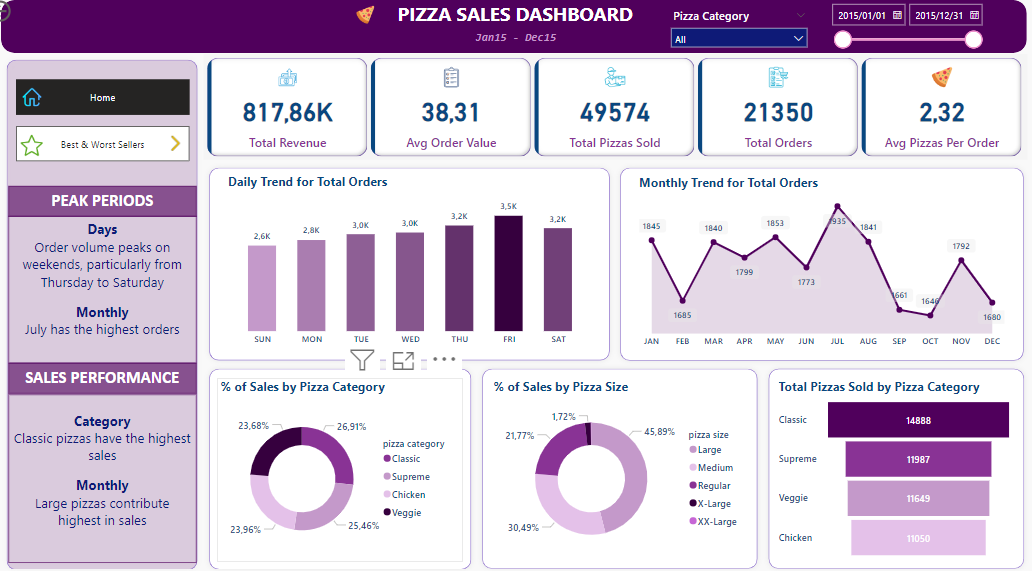

Layout of this report page (visuals, bound fields, positions):
{"tool":"powerbi","page":{"name":"Home","canvas":[1500,825],"ordinal":0},"visuals":[{"type":"shape","box":[21.7,80,286.7,740],"z":0},{"type":"cardVisual","fields":{"Data":["pizza_sales.Total Revenue","pizza_sales.Avg Order Value","pizza_sales.Total Pizzas Sold","pizza_sales.Total Orders","pizza_sales.Avg Pizzas Per Order"]},"box":[308.3,80,1168.3,150],"z":1000},{"type":"shape","box":[21.7,5,1455,75],"z":2000},{"type":"textbox","box":[680.8,43.3,141.5,36.6],"z":3000},{"type":"image","box":[513.3,6.7,50,36.7],"z":4000},{"type":"textbox","box":[563.3,0,373.3,50],"z":5000},{"type":"shape","box":[307.9,233,584.2,289.6],"z":6000},{"type":"columnChart","title":"Daily Trend for Total Orders","fields":{"Category":["pizza_sales.Order day"],"Y":["pizza_sales.Total Orders"]},"box":[337.9,249.7,527.6,254.7],"z":7000},{"type":"shape","box":[891.7,233.3,588.3,290],"z":8000},{"type":"areaChart","title":"Monthly Trend for Total Orders","fields":{"Category":["pizza_sales.Order Month"],"Y":["pizza_sales.Total Orders"]},"box":[921.7,250,528.3,255],"z":9000},{"type":"shape","box":[307.9,519.3,387.8,301.3],"z":10000},{"type":"shape","box":[695,520,406.7,300],"z":11000},{"type":"shape","box":[1101.7,520,378.3,300],"z":12000},{"type":"donutChart","title":"% of Sales by Pizza Category","fields":{"Category":["pizza_sales.pizza_category"],"Y":["pizza_sales.Total Revenue"]},"box":[326.7,540,350,261.7],"z":13000},{"type":"donutChart","title":"% of Sales by Pizza Size","fields":{"Y":["pizza_sales.Total Revenue"],"Category":["pizza_sales.pizza_size"]},"box":[715,540,366.7,261.7],"z":14000},{"type":"funnel","title":"Total Pizzas Sold by Pizza Category","fields":{"Category":["pizza_sales.pizza_category"],"Y":["pizza_sales.Total Pizzas Sold"]},"box":[1120,540,341.7,261.7],"z":15000},{"type":"textbox","box":[31.7,268.3,266.7,43.3],"z":16000},{"type":"textbox","box":[31.7,311.7,266.7,208.3],"z":17000},{"type":"textbox","box":[31.7,520,266.7,43.3],"z":18000},{"type":"textbox","box":[31.7,563.3,266.7,238.3],"z":19000},{"type":"actionButton","box":[0,0,100,40],"z":20000},{"type":"slicer","fields":{"Values":["pizza_sales.pizza_category"]},"box":[961.7,11.7,213.3,68.3],"z":21000},{"type":"slicer","fields":{"Values":["pizza_sales.order_date"]},"box":[1186.7,0,235,80],"z":22000},{"type":"pageNavigator","box":[41.7,183.3,246.7,50],"z":23000},{"type":"pageNavigator","box":[41.7,116.7,246.7,50],"z":24000},{"type":"image","box":[248.3,191.7,40,31.7],"z":25000},{"type":"image","box":[41.7,123.3,45,36.7],"z":26000},{"type":"image","box":[41.7,188.3,45,41.7],"z":26001}]}

Visuals, with their boxes in screenshot pixels (x1, y1, x2, y2), scaled from the page's 1500x825 canvas onto the 1032x571 screenshot:
shape: <box>15,55,212,568</box>
cardVisual - pizza_sales.Total Revenue x pizza_sales.Avg Order Value: <box>212,55,1016,159</box>
shape: <box>15,3,1016,55</box>
textbox: <box>468,30,566,55</box>
image: <box>353,5,388,30</box>
textbox: <box>388,0,644,35</box>
shape: <box>212,161,614,362</box>
"Daily Trend for Total Orders" columnChart: <box>232,173,595,349</box>
shape: <box>613,161,1018,362</box>
"Monthly Trend for Total Orders" areaChart: <box>634,173,998,350</box>
shape: <box>212,359,479,568</box>
shape: <box>478,360,758,568</box>
shape: <box>758,360,1018,568</box>
"% of Sales by Pizza Category" donutChart: <box>225,374,466,555</box>
"% of Sales by Pizza Size" donutChart: <box>492,374,744,555</box>
"Total Pizzas Sold by Pizza Category" funnel: <box>771,374,1006,555</box>
textbox: <box>22,186,205,216</box>
textbox: <box>22,216,205,360</box>
textbox: <box>22,360,205,390</box>
textbox: <box>22,390,205,555</box>
actionButton: <box>0,0,69,28</box>
slicer - pizza_sales.pizza_category: <box>662,8,808,55</box>
slicer - pizza_sales.order_date: <box>816,0,978,55</box>
pageNavigator: <box>29,127,198,161</box>
pageNavigator: <box>29,81,198,115</box>
image: <box>171,133,198,155</box>
image: <box>29,85,60,111</box>
image: <box>29,130,60,159</box>
